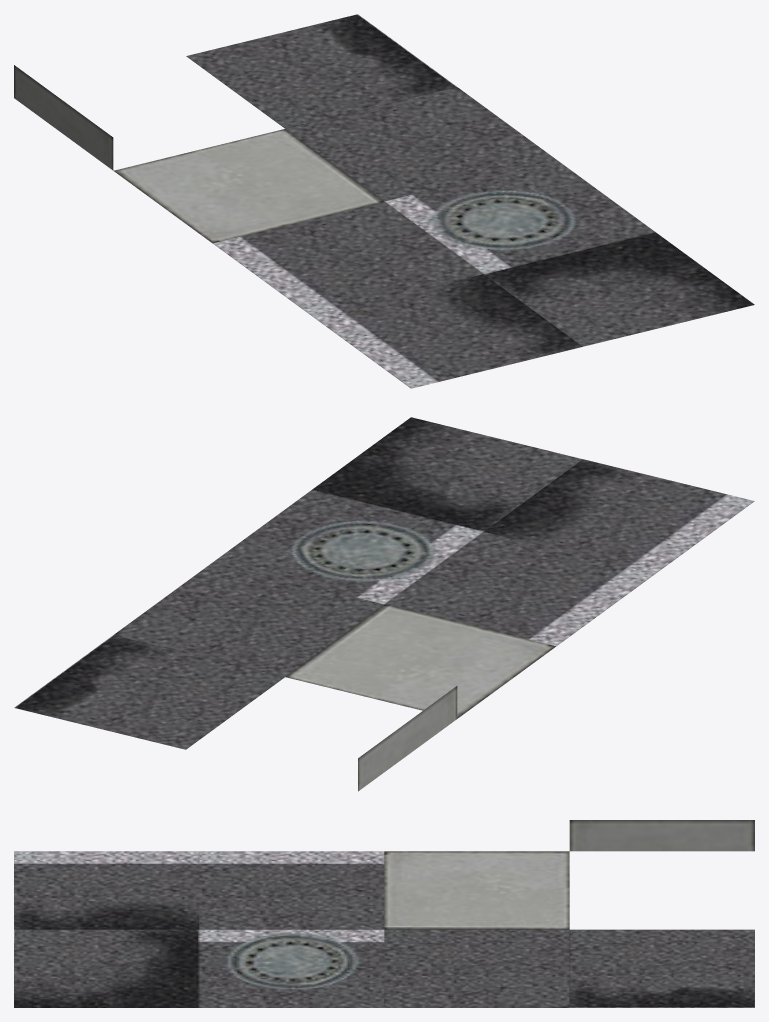
File: StreetTiles.fbx
The picture shows the model from 3 angles, top to bottom: view 1: azimuth 30°, elevation 25°; view 2: azimuth 150°, elevation 25°; view 3: azimuth 270°, elevation 25°; orthographic projection. The views are drawn at different scales.
Parts seen in each view (by area): view 1: Plane, Plane.007, Plane.001, Plane.002, Plane.003, Plane.004, Plane.005, Plane.006; view 2: Plane.002, Plane, Plane.001, Plane.003, Plane.004, Plane.007, Plane.005, Plane.006; view 3: Plane, Plane.001, Plane.004, Plane.005, Plane.002, Plane.003, Plane.007, Plane.006.
Boxes of the visible parts, x1,y1,x2,y2 form: Plane: (312, 274, 582, 388); Plane.007: (186, 14, 456, 128); Plane.001: (213, 201, 483, 315); Plane.002: (484, 232, 754, 346); Plane.003: (385, 159, 655, 273); Plane.004: (285, 87, 555, 201); Plane.005: (113, 129, 383, 243); Plane.006: (14, 65, 113, 170); Plane.002: (312, 417, 582, 531); Plane: (484, 459, 754, 573); Plane.001: (385, 532, 655, 646); Plane.003: (213, 490, 483, 604); Plane.004: (113, 562, 383, 676); Plane.007: (14, 635, 284, 749); Plane.005: (285, 604, 555, 718); Plane.006: (358, 686, 457, 791); Plane: (14, 851, 199, 929); Plane.001: (199, 851, 384, 929); Plane.004: (384, 929, 569, 1007); Plane.005: (384, 851, 569, 929); Plane.002: (14, 929, 199, 1007); Plane.003: (199, 929, 384, 1007); Plane.007: (569, 929, 754, 1007); Plane.006: (569, 820, 754, 851).
Size of the model in its own units: 200 by 18.53 by 400.
